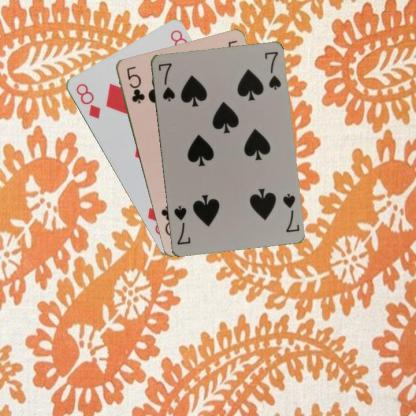5c: (124, 64, 146, 104)
7s: (156, 60, 177, 103), (280, 190, 300, 233)
8d: (72, 80, 102, 120)
